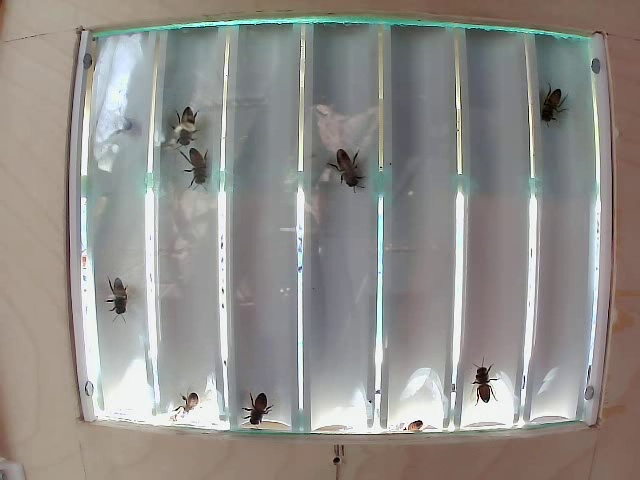bee: (526, 77, 573, 131), (101, 271, 145, 324), (168, 102, 208, 157), (333, 143, 369, 203), (185, 144, 218, 197), (251, 384, 287, 428), (472, 355, 504, 404)
